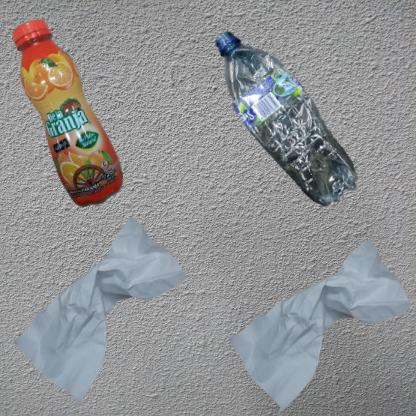botella: (213, 10, 378, 246), (10, 10, 137, 233)
papel: (213, 213, 416, 416), (10, 213, 188, 412)
